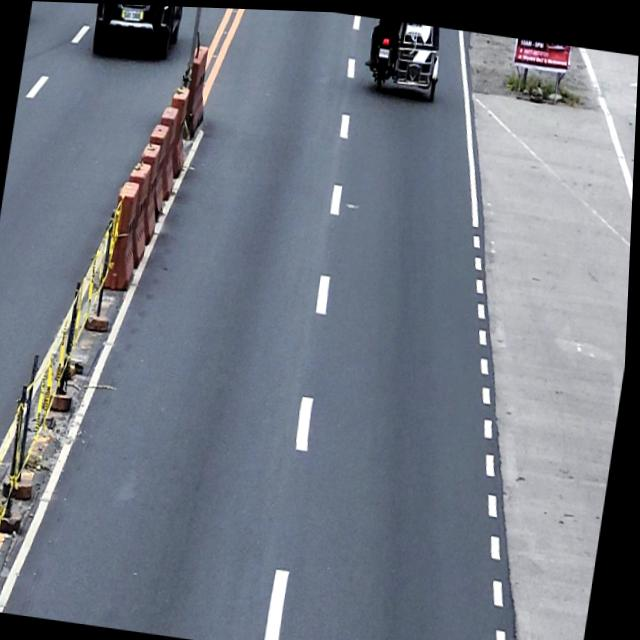Car: (89, 3, 184, 63)
License-Plate: (122, 7, 142, 21), (378, 44, 390, 55)
Tricycle: (360, 15, 446, 99)
